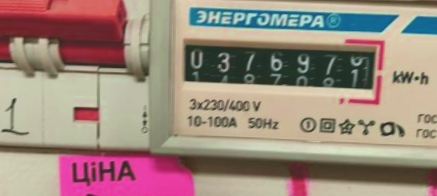0: (188, 48, 203, 70)
1: (348, 67, 358, 90)
3: (215, 51, 229, 73)
6: (268, 49, 283, 72)
7: (241, 49, 256, 73), (321, 52, 336, 75)
9: (294, 52, 309, 74)
screen: (171, 30, 387, 108)
